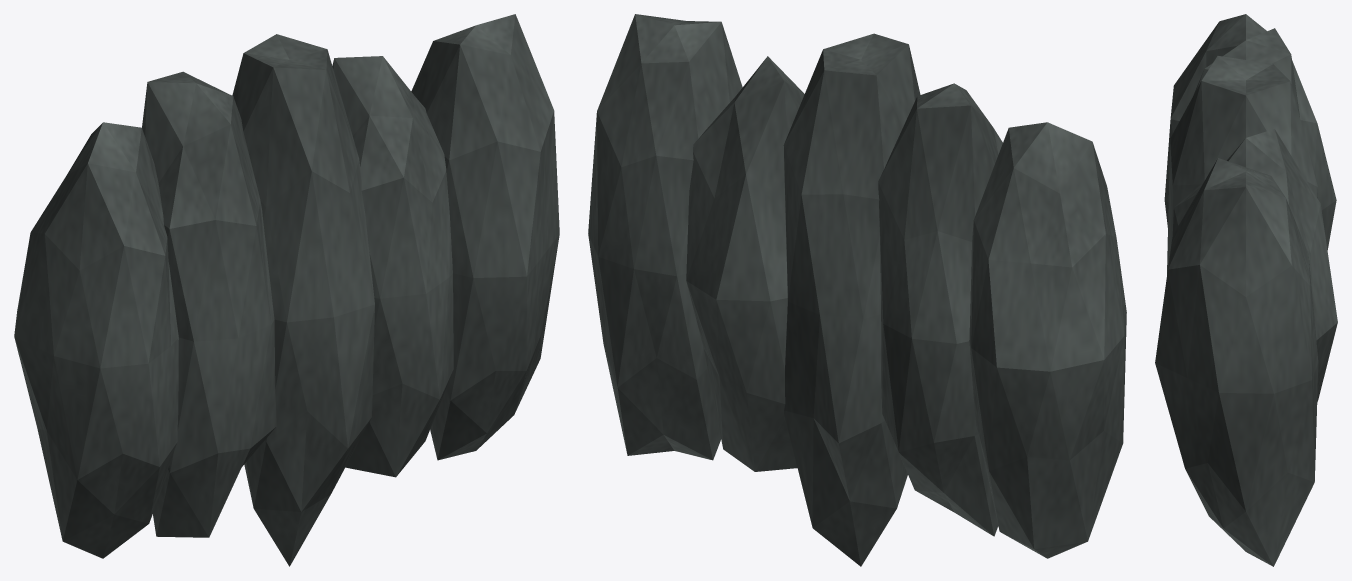
File: cliff_straight.glb
3 views of the same model, side by side, from view 1: azimuth 30°, elevation 25°; view 2: azimuth 150°, elevation 25°; view 3: azimuth 270°, elevation 25° (orthographic). The views are drawn at different scales.
Parts seen in each view (by area): view 1: Cliff, Cliff.002, Cliff.004, Cliff.001, Cliff.003; view 2: Cliff, Cliff.002, Cliff.004, Cliff.001, Cliff.003; view 3: Cliff.004, Cliff.002, Cliff.003, Cliff, Cliff.001.
Boxes of the visible parts, box(x1,y1,x2,y2) form: Cliff: box(14, 122, 178, 558); Cliff.002: box(232, 34, 374, 566); Cliff.004: box(411, 14, 559, 460); Cliff.001: box(142, 71, 276, 537); Cliff.003: box(332, 56, 453, 477); Cliff: box(969, 122, 1126, 558); Cliff.002: box(783, 33, 920, 566); Cliff.004: box(588, 14, 742, 460); Cliff.001: box(878, 83, 1002, 536); Cliff.003: box(686, 56, 804, 471); Cliff.004: box(1155, 158, 1318, 566); Cliff.002: box(1167, 56, 1317, 274); Cliff.003: box(1172, 129, 1337, 401); Cliff: box(1164, 14, 1336, 250); Cliff.001: box(1193, 28, 1299, 116).
Bounding box in the file's own units: 12.74 × 12.23 × 4.37.
Materials: 1 (1 with a texture image).
